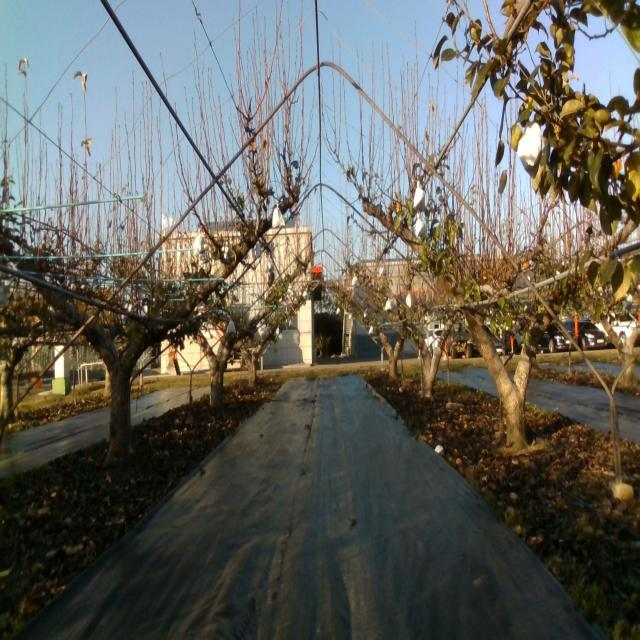pearbags: (515, 123, 543, 180), (193, 228, 207, 258), (414, 212, 427, 239), (414, 181, 425, 212), (271, 204, 285, 228)
